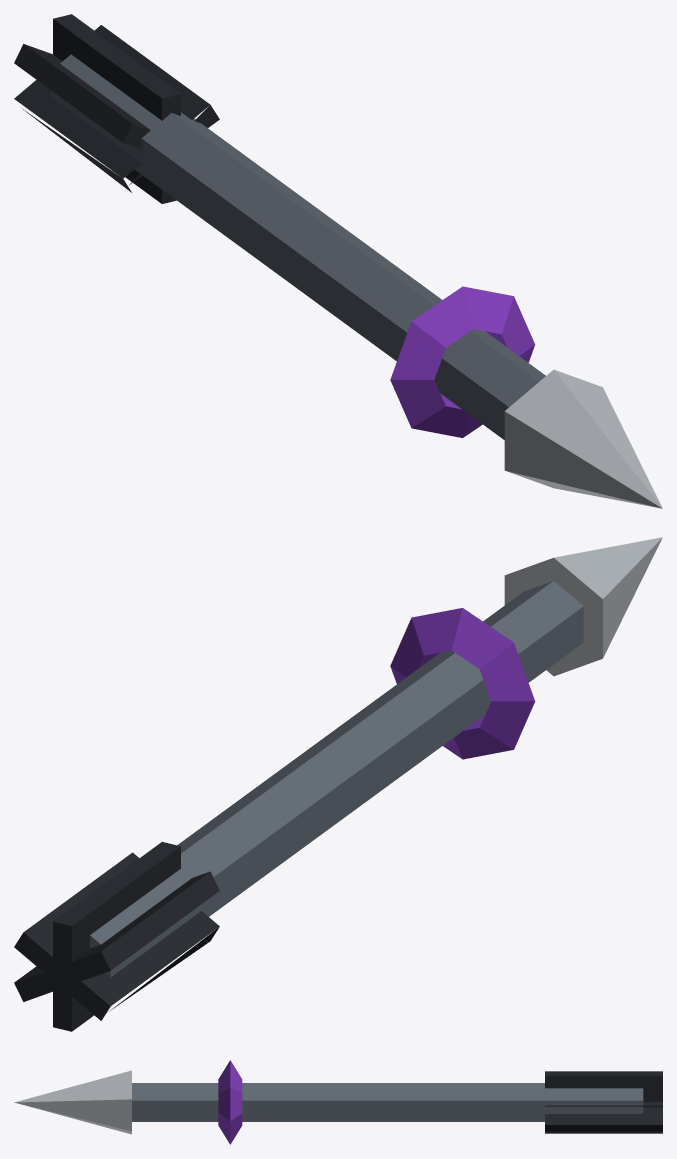
File: bolt-panic.lod.glb
3 views of the same model, one above another, from view 1: azimuth 30°, elevation 25°; view 2: azimuth 150°, elevation 25°; view 3: azimuth 270°, elevation 25° (orthographic). The views are drawn at different scales.
Parts seen in each view (by area): view 1: m; view 2: m; view 3: m.
Part boxes in pixels (x1=…): m: x1=14, y1=14, x2=662, y2=508; m: x1=14, y1=537, x2=662, y2=1031; m: x1=14, y1=1060, x2=662, y2=1144.
Size of the model in its own units: 0.0223 by 0.0223 by 0.16.
